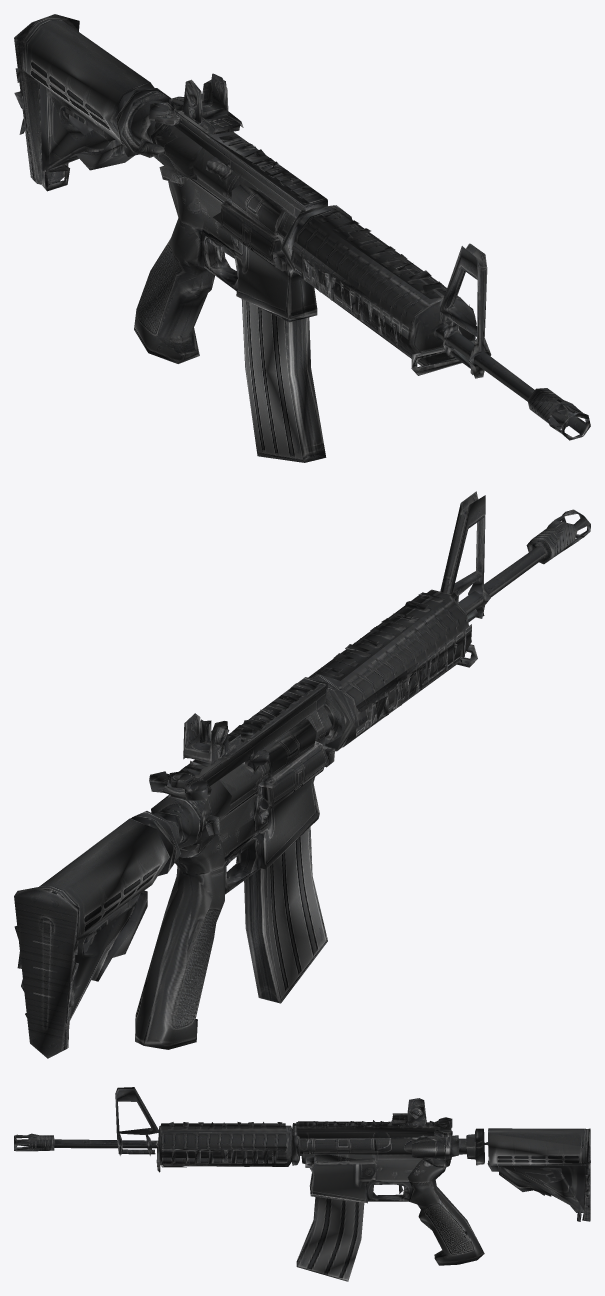
File: Rifle.fbx
3 renders of one model, top to bottom at view 1: azimuth 30°, elevation 25°; view 2: azimuth 150°, elevation 25°; view 3: azimuth 270°, elevation 25°, orthographic. The views are drawn at different scales.
Parts seen in each view (by area): view 1: Rifle; view 2: Rifle; view 3: Rifle.
Part boxes in pixels (x1,y1,x2,y2): Rifle: (14,14,590,462); Rifle: (14,491,590,1058); Rifle: (14,1087,590,1281).
Bounding box in the file's own units: 0.0408 × 0.165 × 0.45.
1 material, 1 textured.
